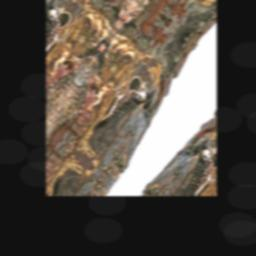Woodpecker: (86, 68, 154, 150)
